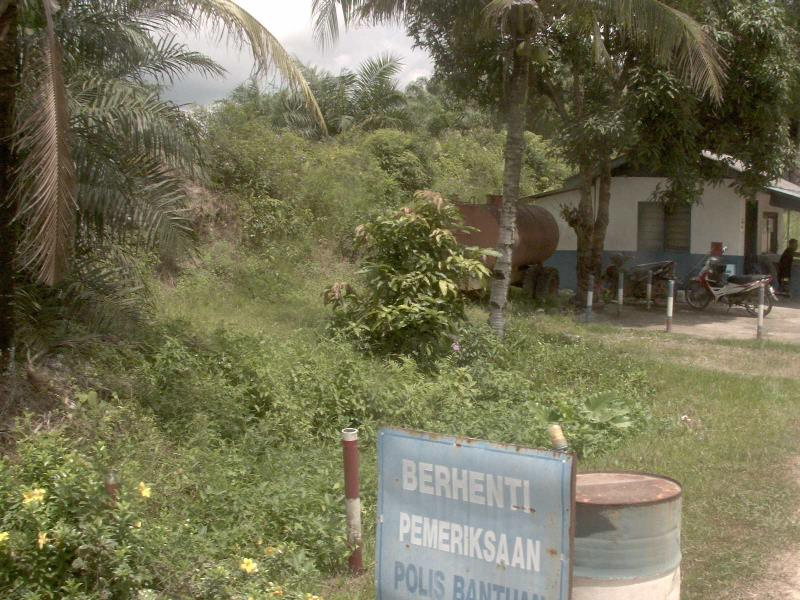ads_sign: (365, 429, 593, 600)
